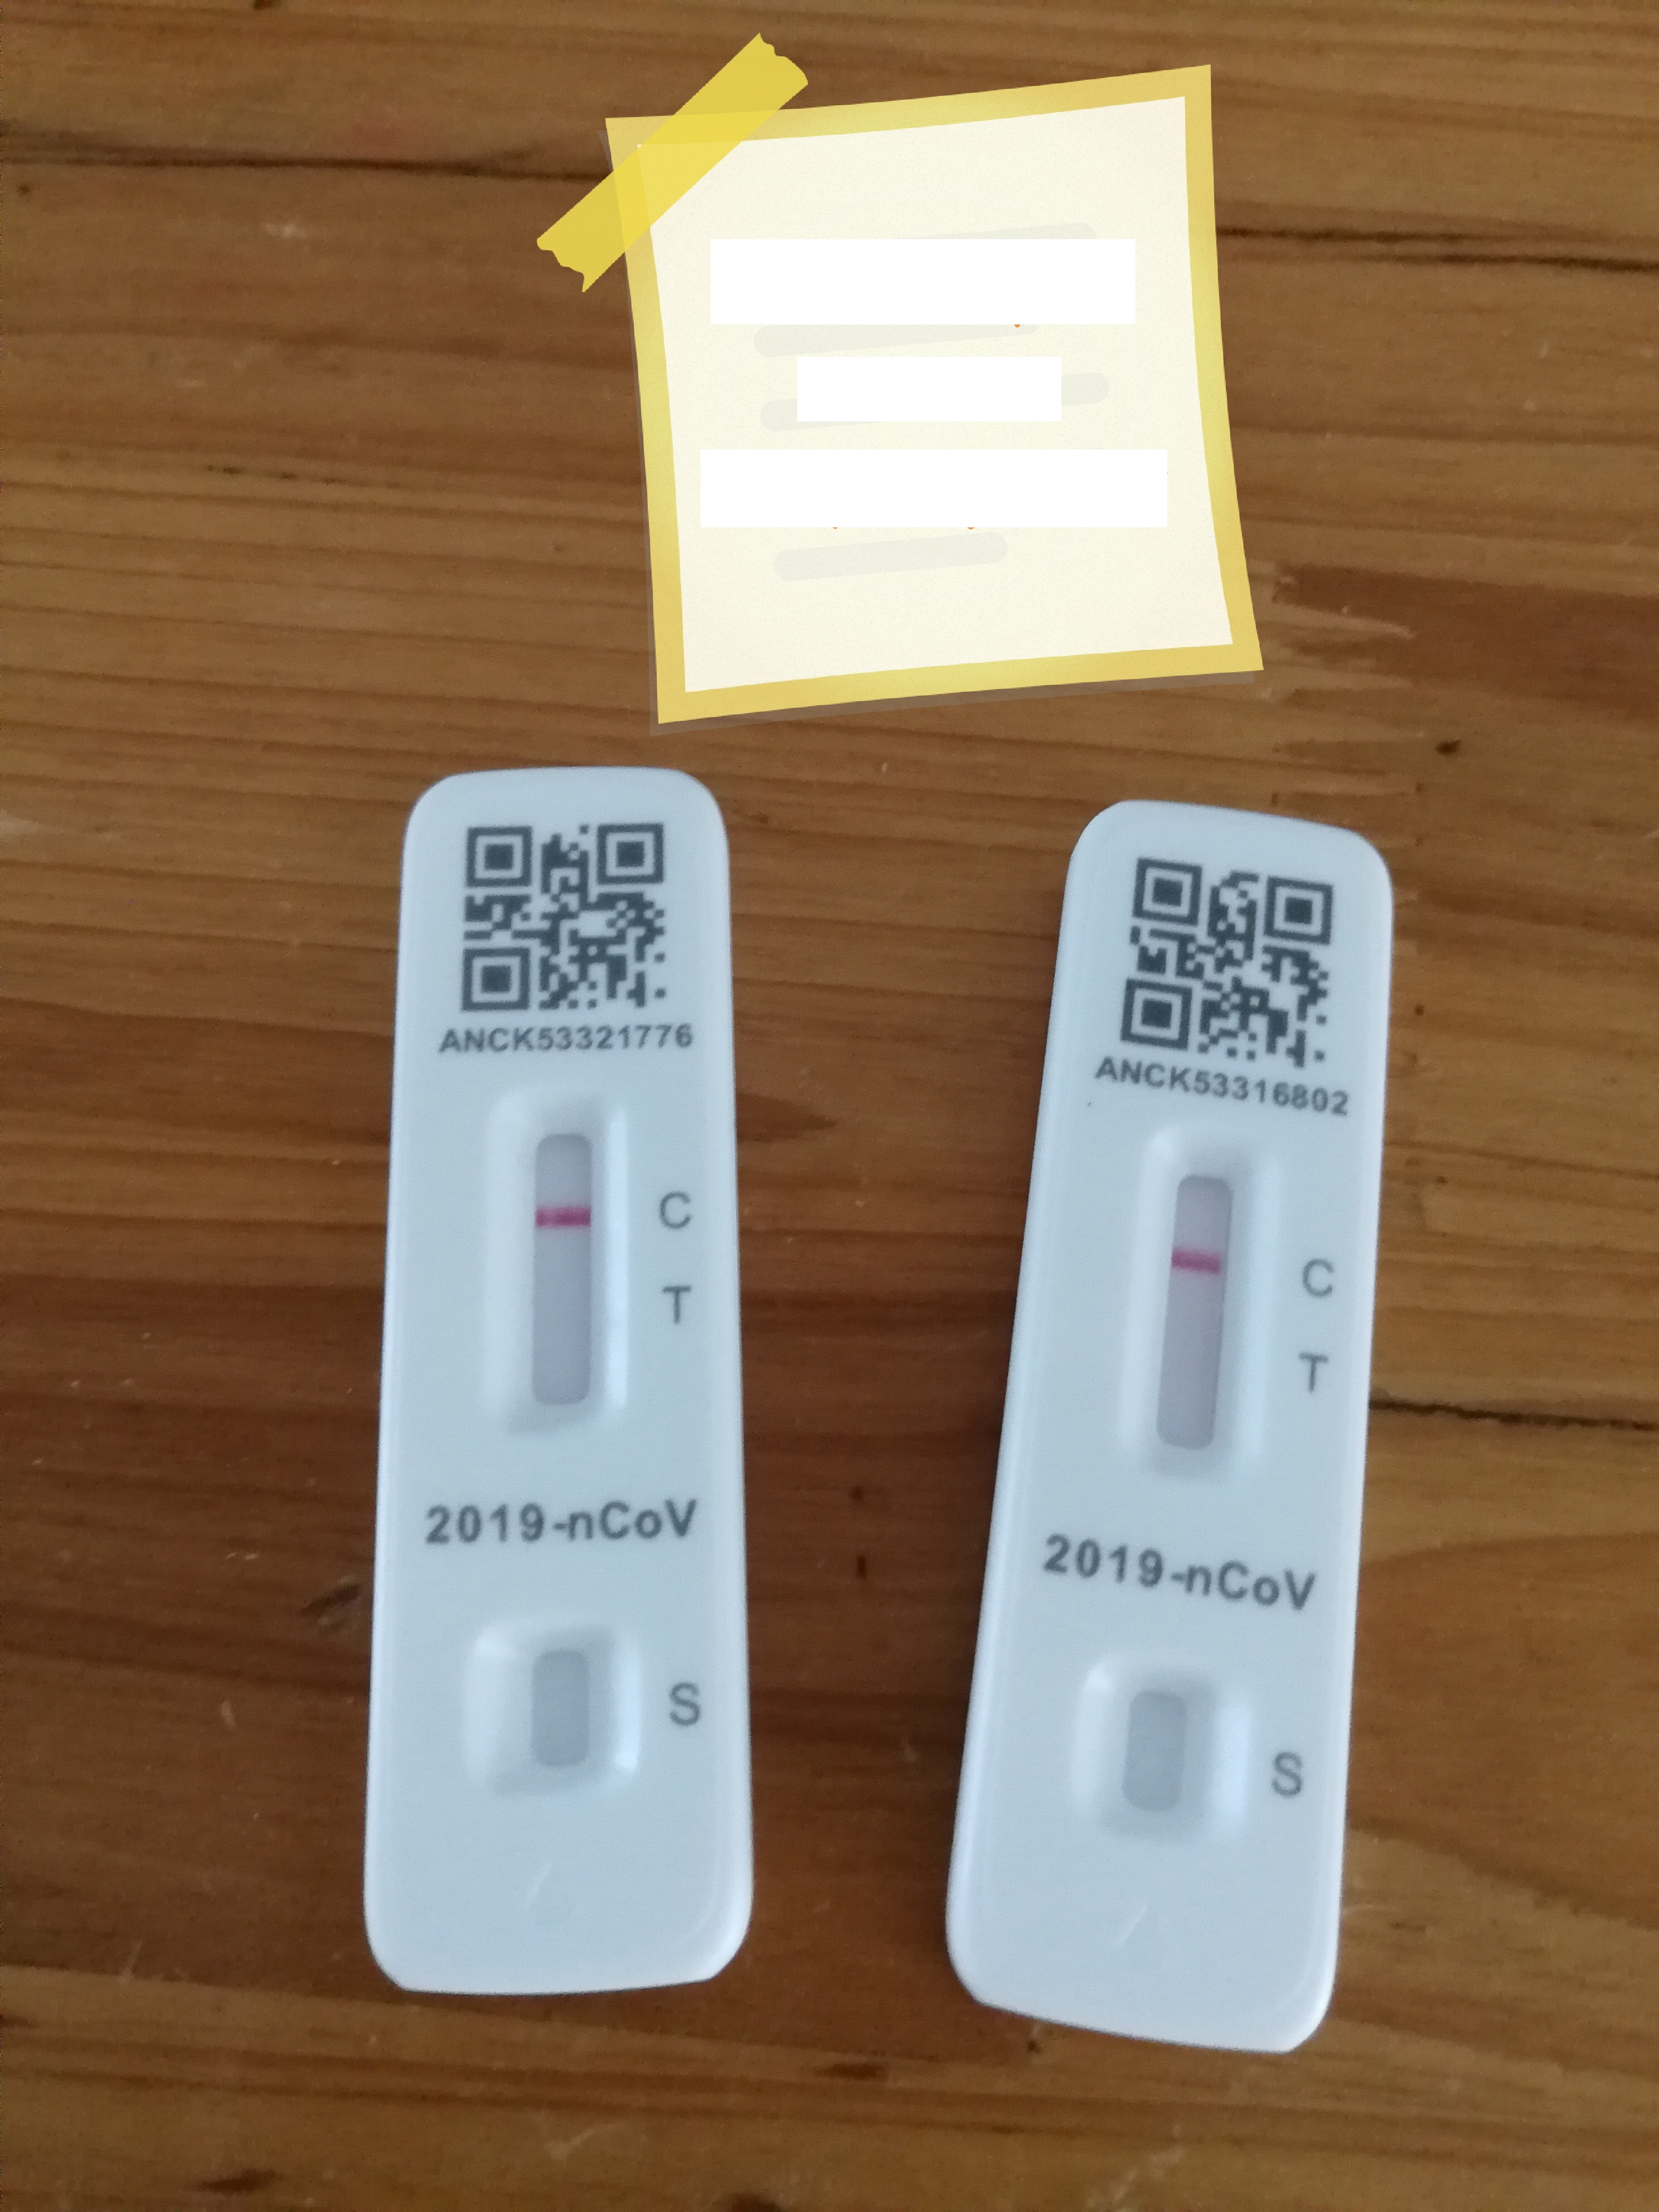negative: (1138, 1146, 1265, 1474), (504, 1103, 620, 1433)
